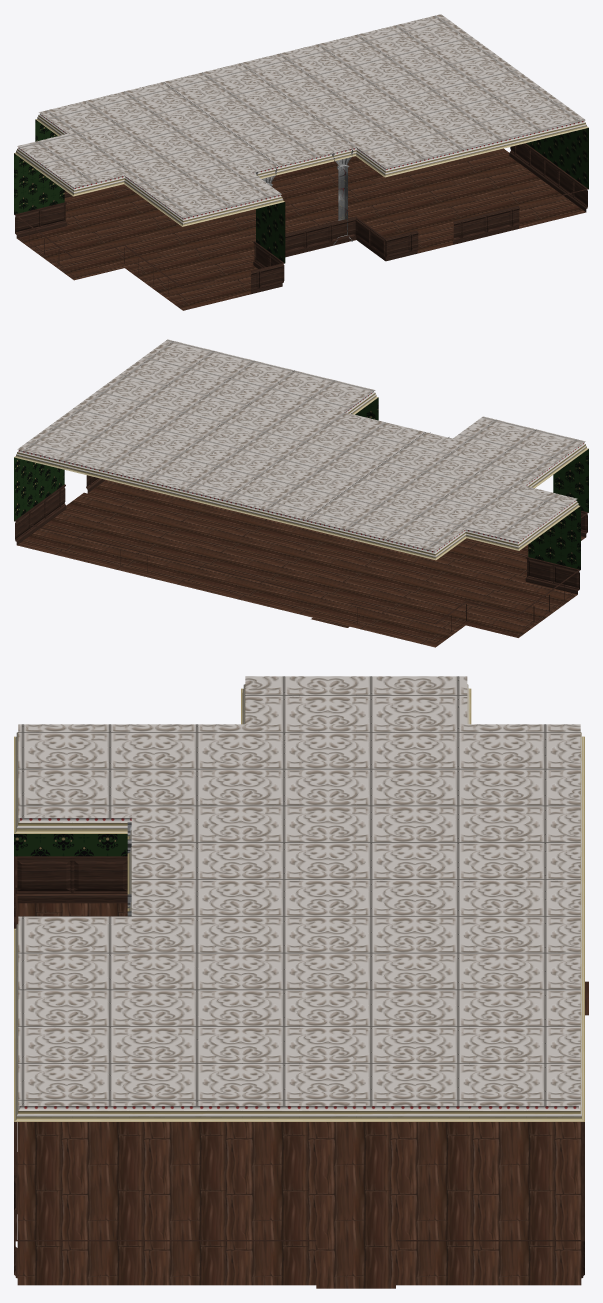
File: Trophy_Room_FINAL.fbx
3 renders of one model, top to bottom at view 1: azimuth 30°, elevation 25°; view 2: azimuth 150°, elevation 25°; view 3: azimuth 270°, elevation 25°, orthographic. The views are drawn at different scales.
Parts seen in each view (by area): view 1: Trophy_Room; view 2: Trophy_Room; view 3: Trophy_Room.
Boxes of the visible parts, left/top/right/bottom form: Trophy_Room: left=14, top=14, right=588, bottom=310; Trophy_Room: left=14, top=339, right=588, bottom=647; Trophy_Room: left=14, top=676, right=588, bottom=1288.
Bounding box in the file's own units: 1800 × 346 × 1006.
